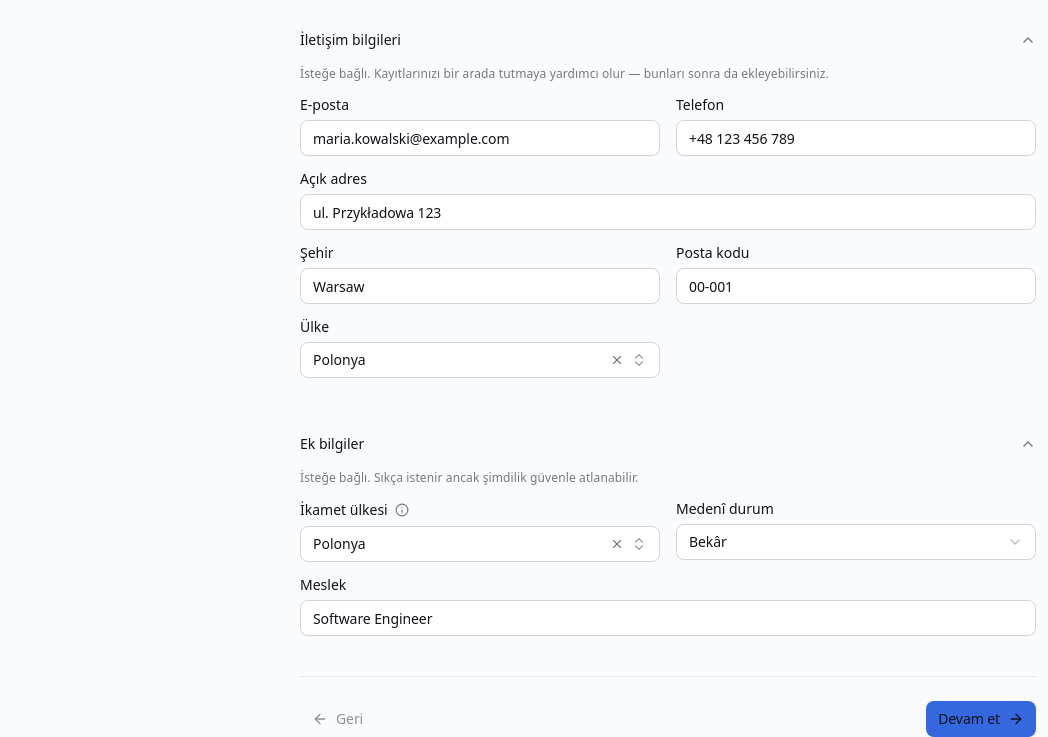
Test case: Applicant wizard — progressive disclosure & guidance › surfaces a calm, dismissible note for a soon-expiring passport
(page scrolled)
Note: personal → passport
What coordinates should you click on to do the following:
click the button "Devam et"
I would click on:
 (981, 719)
Its box is [926,701,1036,736].
(page scrolled)
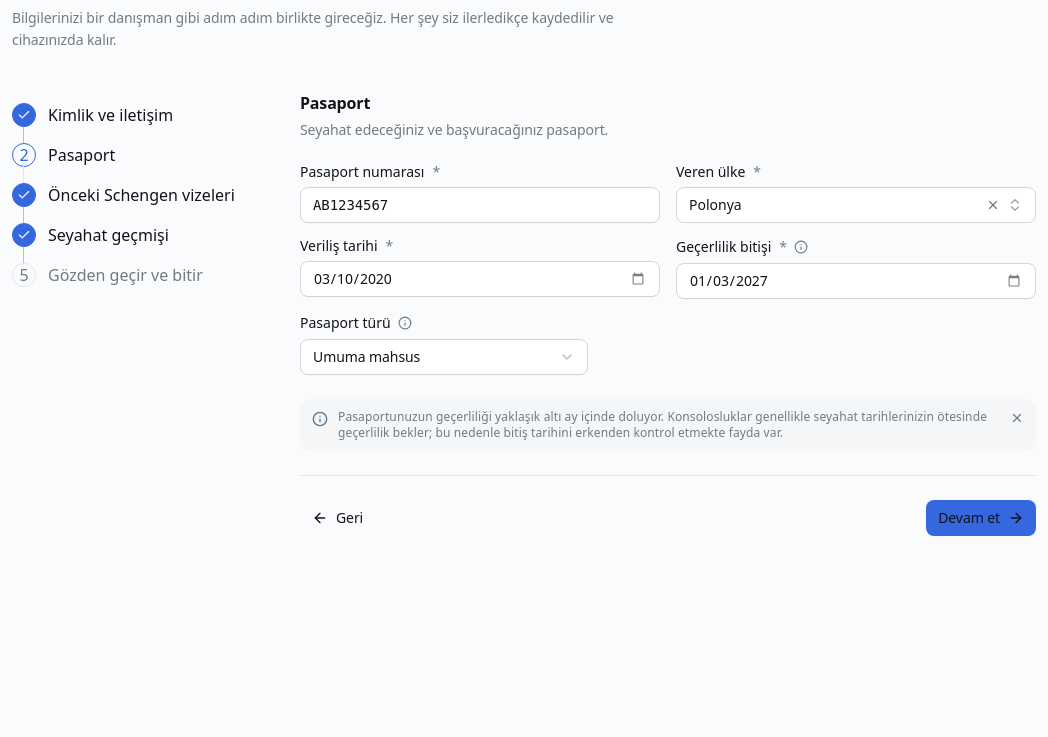
Result: the text "Pasaportunuzun geçerliliği yaklaşık altı ay içinde doluyor. Konsolosluklar genellikle seyahat tarihlerinizin ötesinde ge" is shown at [338,408,987,441]
Note: It is informational, never an alert, and can be dismissed.
What coordinates should you click on to do the following:
click the button named "Kapat"
I would click on:
 (1017, 418)
Its box is [1002,403,1032,433].
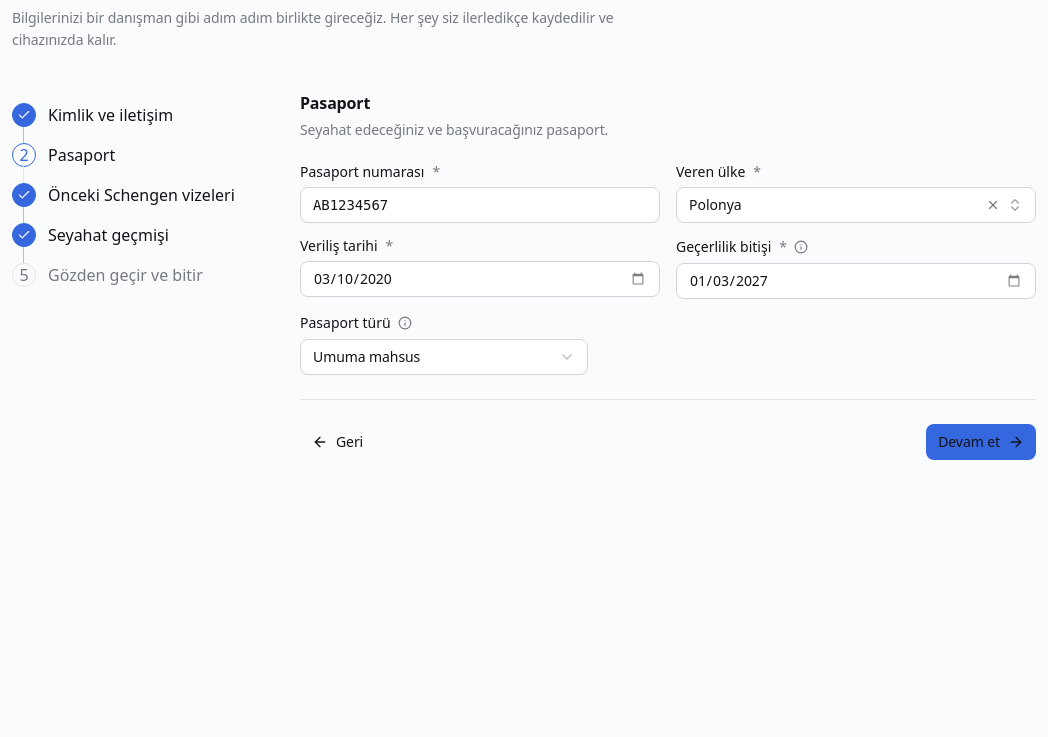
Result: the text "Pasaportunuzun geçerliliği yaklaşık altı ay içinde doluyor. Konsolosluklar genellikle seyahat tarihlerinizin ötesinde ge" is gone
